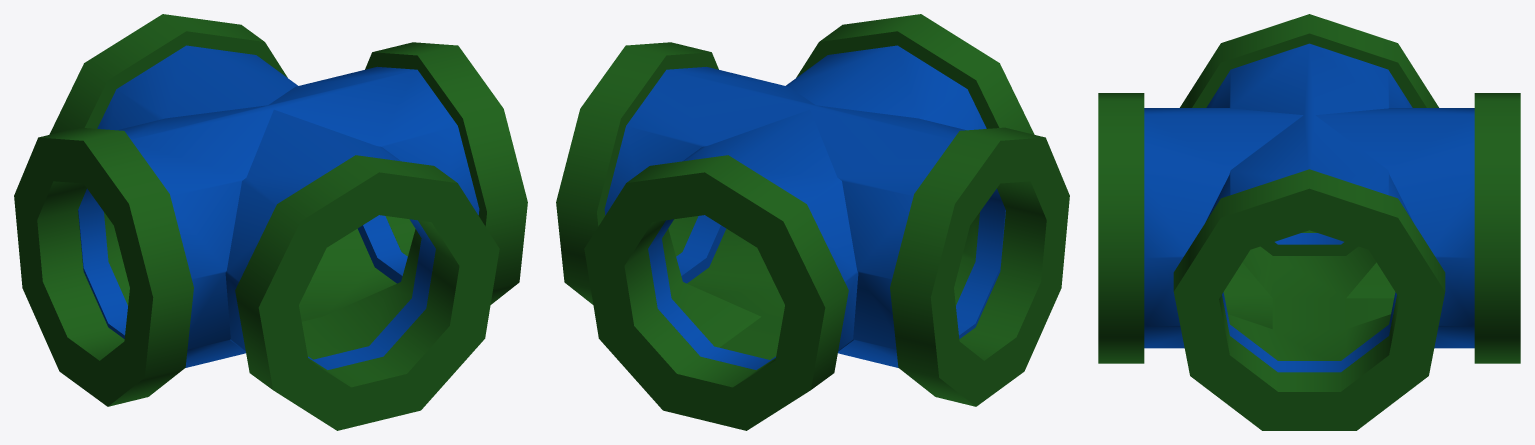
The model's file is Cross pipe.fbx.
3 renders of one model, left to right at view 1: azimuth 30°, elevation 25°; view 2: azimuth 150°, elevation 25°; view 3: azimuth 270°, elevation 25°, orthographic. The views are drawn at different scales.
Visible parts, largest first — view 1: cross; view 2: cross; view 3: cross.
Part boxes in pixels (bbox=[...]): cross: bbox=[14, 14, 527, 430]; cross: bbox=[556, 14, 1069, 430]; cross: bbox=[1098, 14, 1520, 430].
Size of the model in its own units: 138 by 88.64 by 138.
